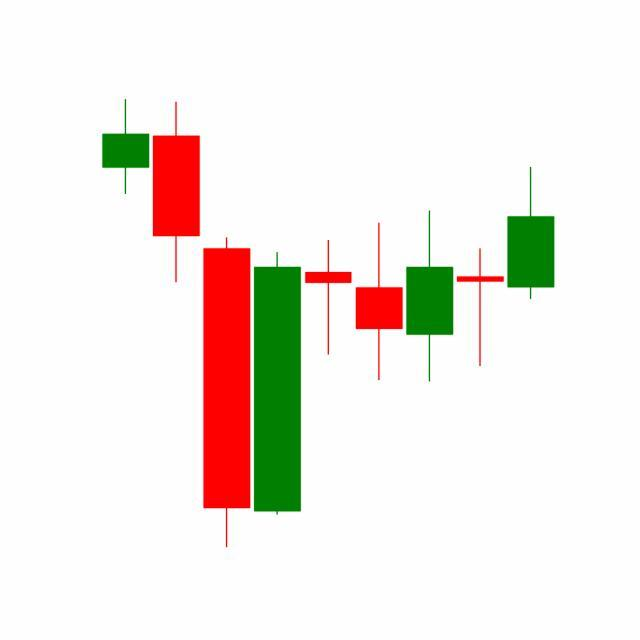Hikkake Pattern: (302, 165, 555, 385)
